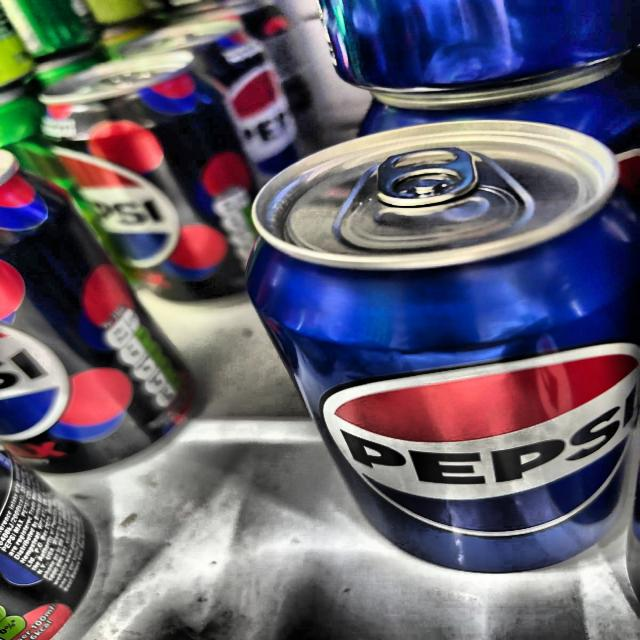pepsi-can: (242, 118, 640, 612), (309, 0, 624, 114)
